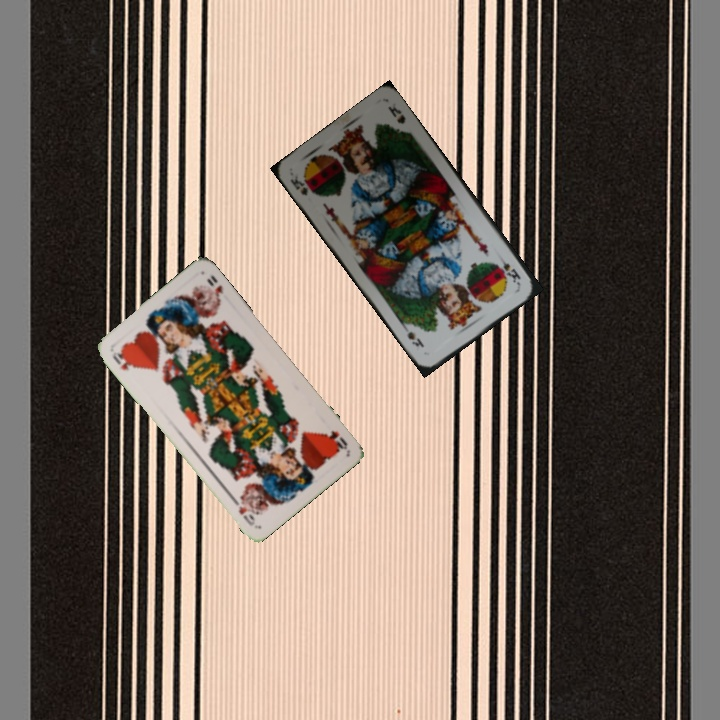HO: (108, 347, 137, 374), (322, 426, 350, 453)
SK: (494, 251, 523, 288), (286, 172, 317, 199)
